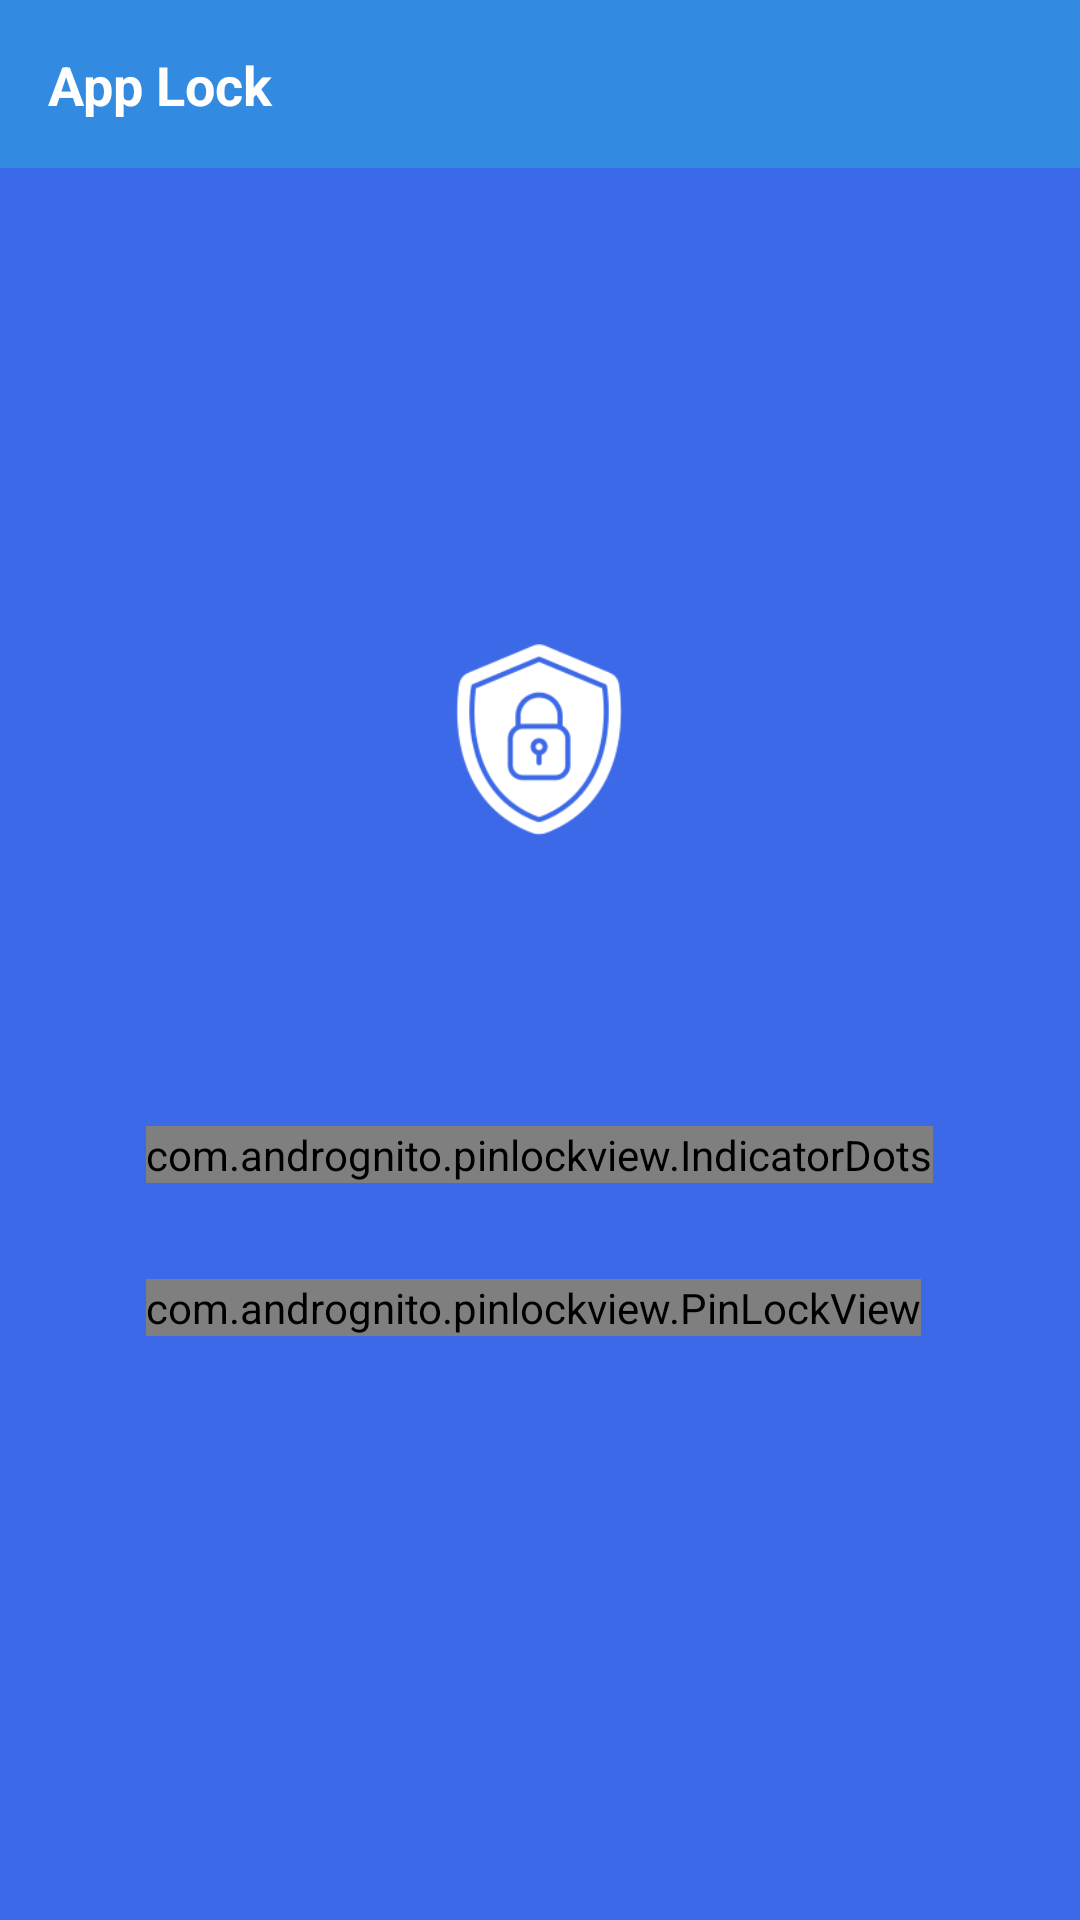

Where to tap for icons on this 1080px x 1920px app screen, as point (x, y):
cyber security: point (539, 739)
